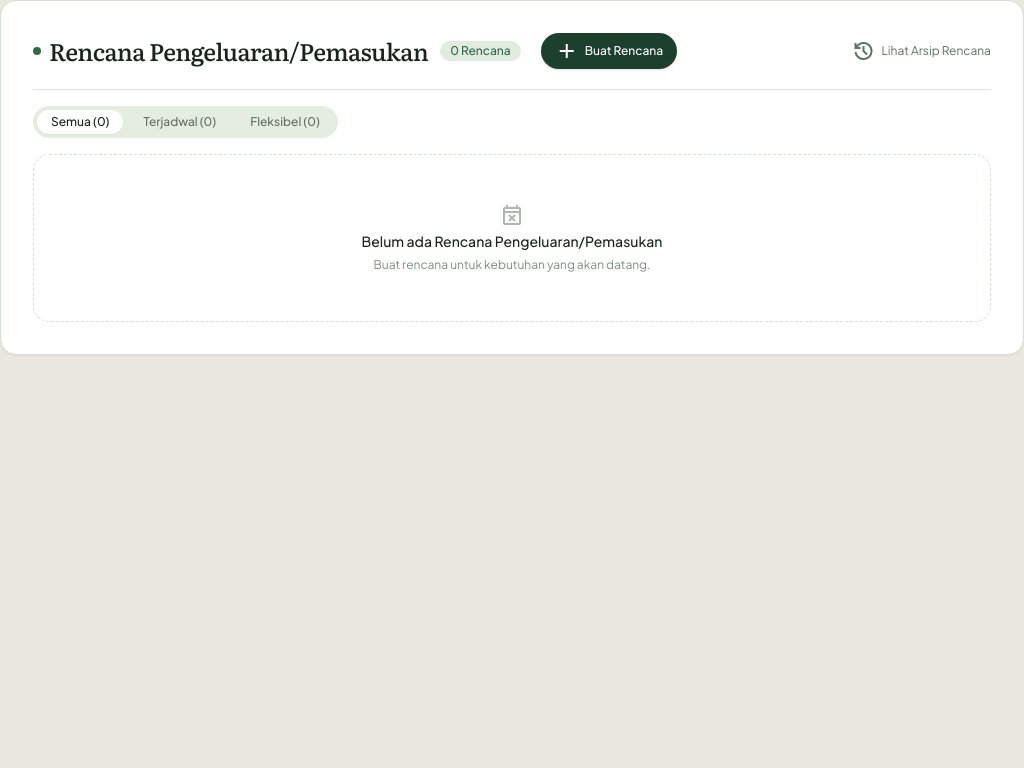
Test case: Buat Rencana interaksi › menolak Tanggal Mulai lampau dan menetapkan tanggal minimum hari ini
The image size is (1024, 768).
Click the button "Buat Rencana".
click(609, 51)  # box x1=541 y1=33 x2=677 y2=69
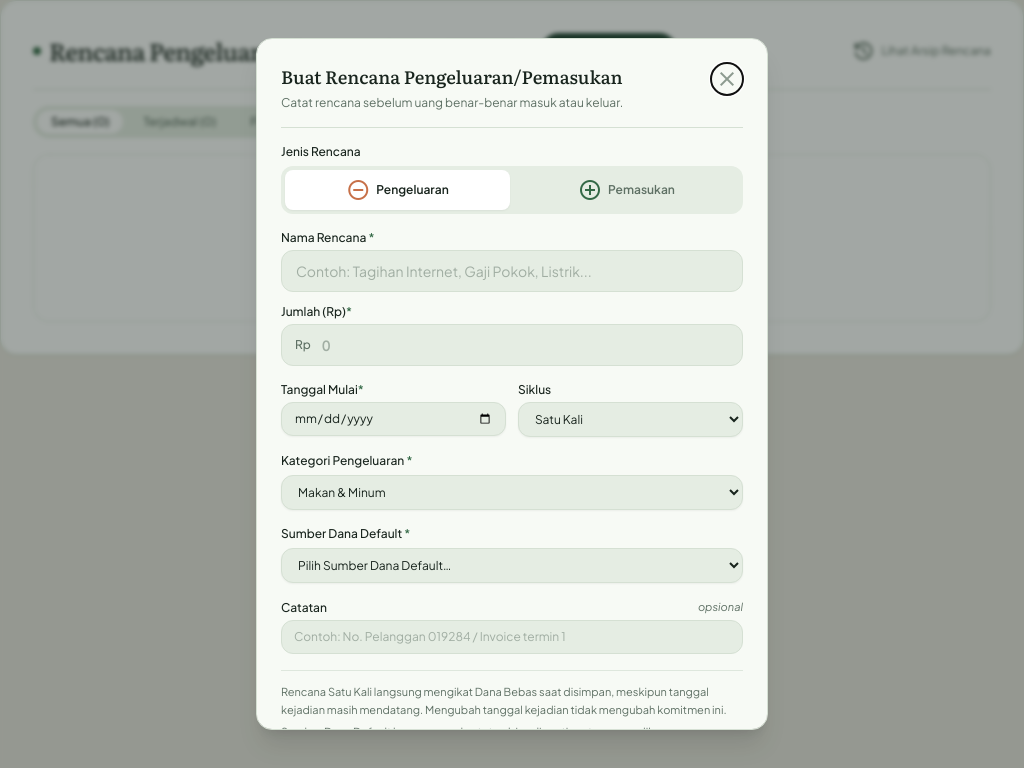
Result: the dropdown labelled "Siklus" shows "Satu Kali" at x1=518 y1=402 x2=743 y2=437
Type "Tagihan" into the field labelled "Nama Rencana *".
click(512, 271); type("Tagihan")  # box x1=281 y1=250 x2=743 y2=292
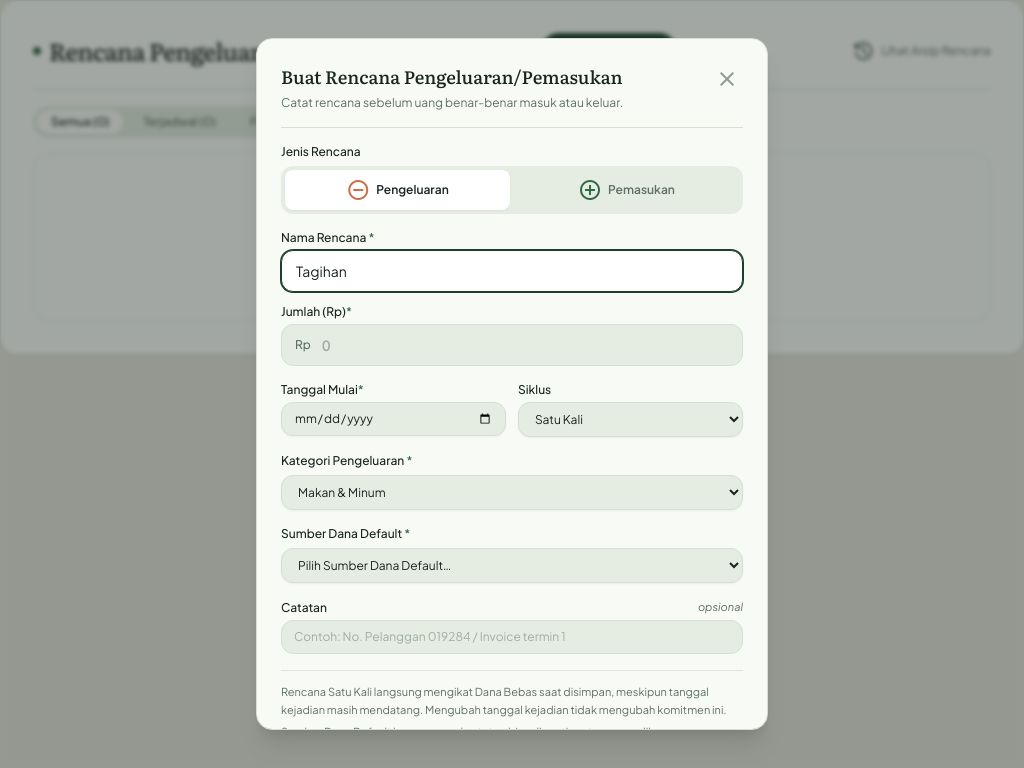
Type "250000" into the field labelled "Jumlah (Rp)*".
click(512, 345); type("250000")  # box x1=281 y1=324 x2=743 y2=366
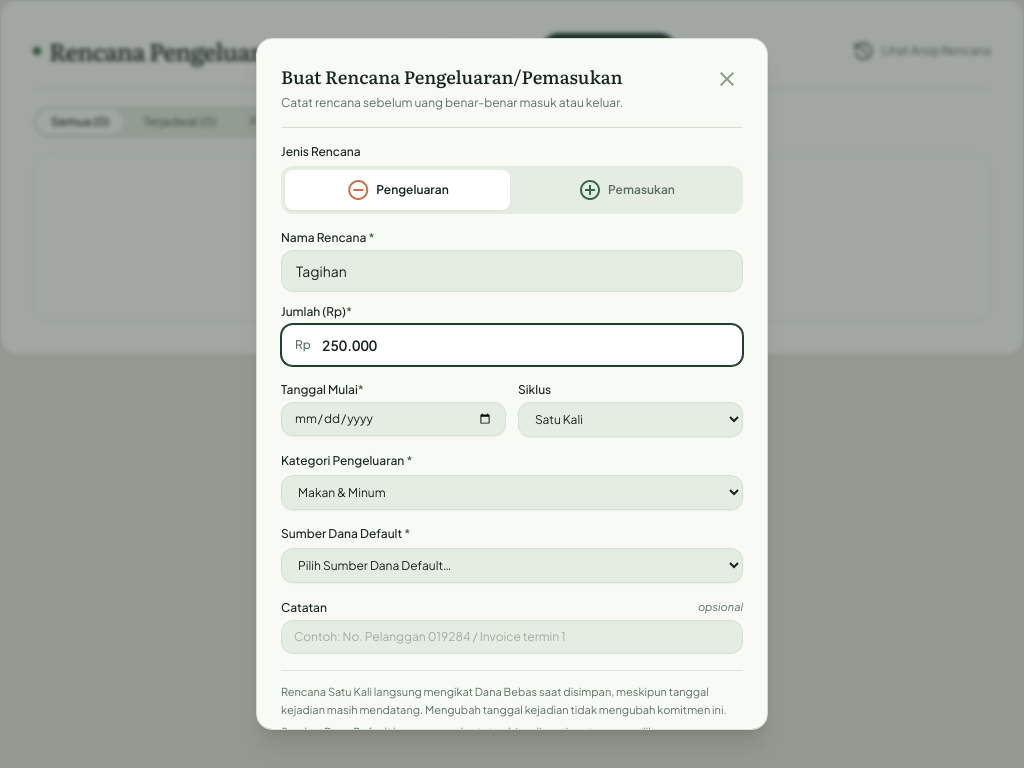
Select "Bank Utama" in the dropdown labelled "Sumber Dana Default *" at (512, 566), box x1=281 y1=548 x2=743 y2=583
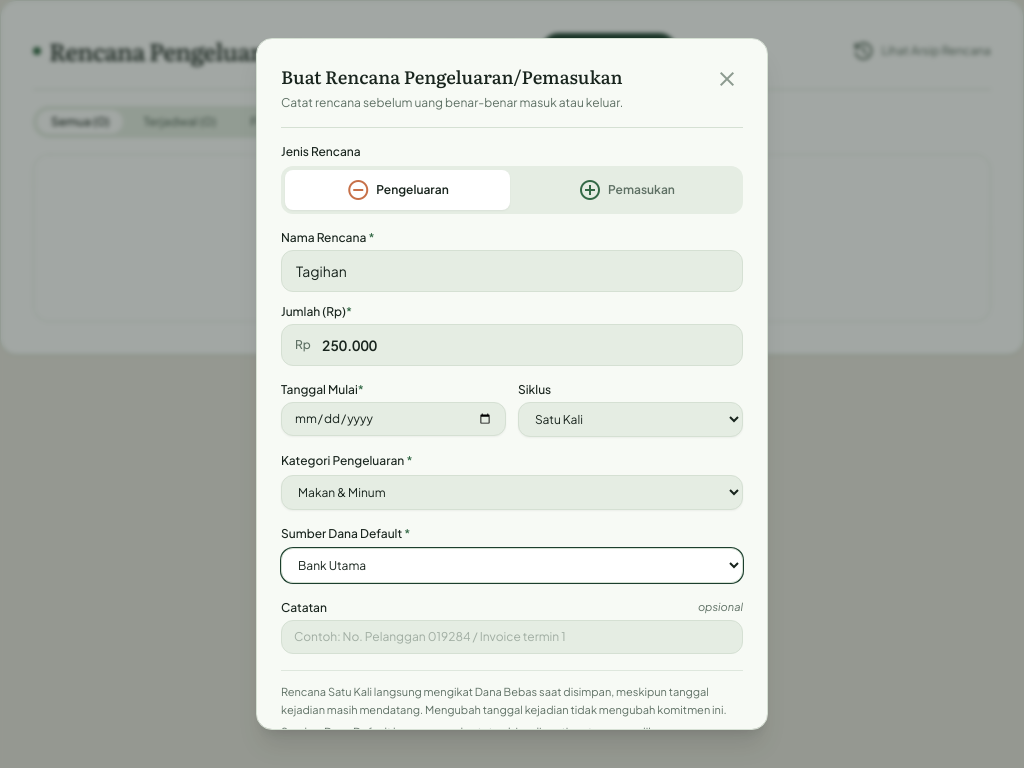
Type "2000-01-01" into the date field labelled "Tanggal Mulai*".
click(394, 419); type("2000-01-01")  # box x1=281 y1=402 x2=506 y2=436
(page scrolled)
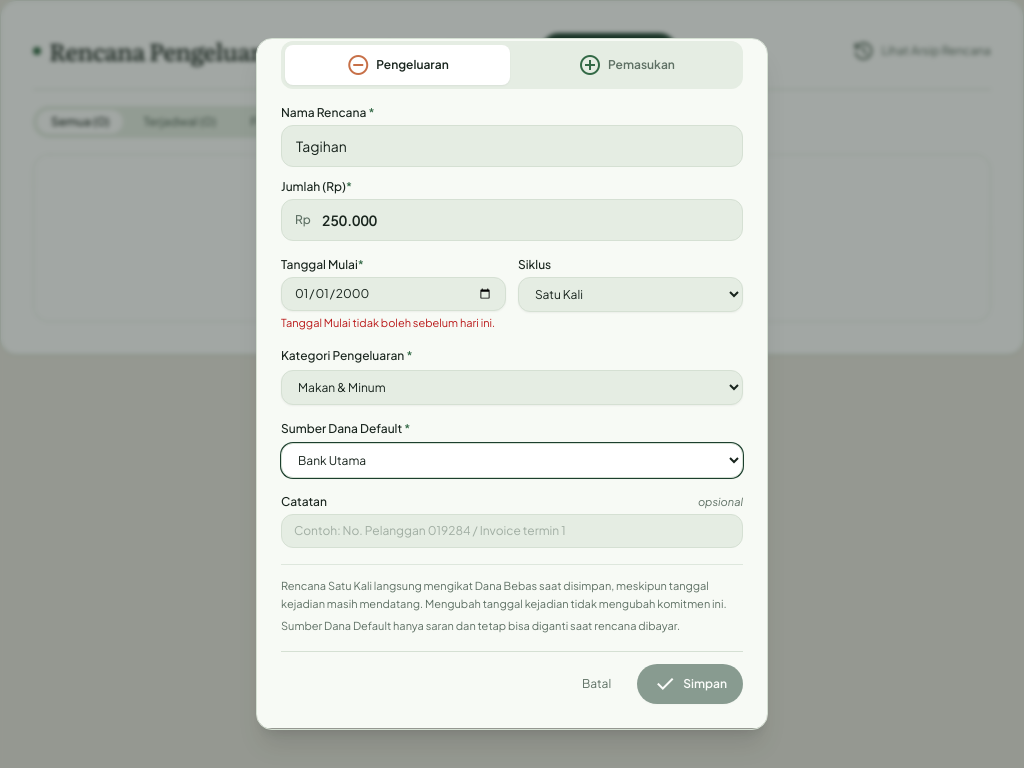
Result: the message shows "tidak boleh sebelum hari ini" at x1=281 y1=316 x2=495 y2=329
Result: the button "Simpan" is disabled at x1=637 y1=664 x2=743 y2=704
